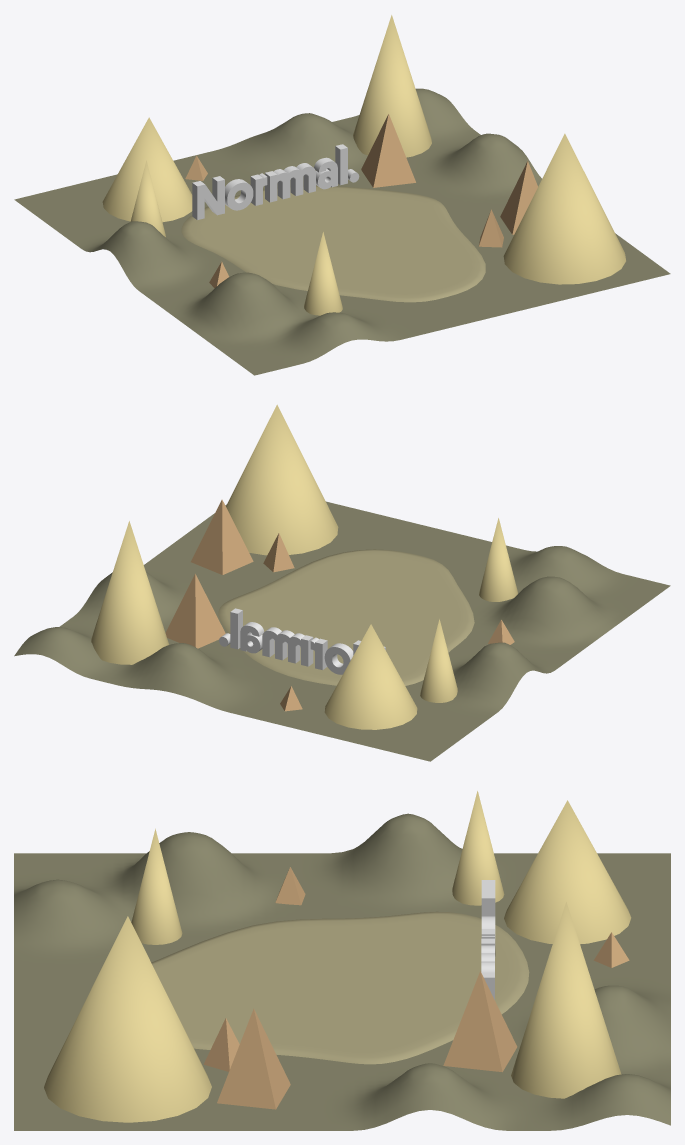
The model's file is Keyboard Land.fbx.
The picture shows the model from 3 angles, top to bottom: view 1: azimuth 30°, elevation 25°; view 2: azimuth 150°, elevation 25°; view 3: azimuth 270°, elevation 25°; orthographic projection. The views are drawn at different scales.
Visible parts, largest first — view 1: Land, Grass, Cone4, Cone5, NormalLogo, Cone2, Pyramid5, Cone1, Pyramid2, Cone3, Pyramid4; view 2: Land, Grass, Cone4, Cone5, Cone2, NormalLogo, Pyramid2, Pyramid5, Cone1, Cone3, Pyramid4; view 3: Land, Grass, Cone4, Cone5, Cone2, Pyramid5, Pyramid2, Cone1, Cone3, NormalLogo, Pyramid4, Pyramid3 (+1 smaller).
Part boxes in pixels (x1,y1,x2,y2): Land: (14, 88, 670, 375); Grass: (181, 185, 485, 302); Cone4: (503, 133, 625, 284); Cone5: (353, 15, 431, 157); NormalLogo: (192, 144, 359, 219); Cone2: (102, 117, 192, 222); Pyramid5: (361, 114, 415, 187); Cone1: (304, 232, 342, 315); Pyramid2: (500, 161, 537, 234); Cone3: (130, 160, 165, 237); Pyramid4: (478, 209, 503, 247); Land: (14, 501, 670, 761); Grass: (218, 549, 474, 685); Cone4: (226, 404, 338, 555); Cone5: (91, 521, 169, 664); Cone2: (324, 624, 417, 729); NormalLogo: (219, 608, 385, 674); Pyramid2: (191, 499, 253, 574); Pyramid5: (165, 573, 225, 648); Cone1: (479, 518, 517, 601); Cone3: (420, 619, 457, 702); Pyramid4: (263, 533, 294, 572); Land: (14, 813, 670, 1130); Grass: (151, 911, 529, 1064); Cone4: (44, 916, 211, 1122); Cone5: (511, 902, 621, 1098); Cone2: (504, 800, 631, 944); Pyramid5: (443, 971, 517, 1072); Pyramid2: (217, 1008, 290, 1109); Cone1: (131, 828, 182, 944); Cone3: (452, 791, 504, 905); NormalLogo: (481, 880, 495, 999); Pyramid4: (203, 1018, 239, 1071); Pyramid3: (593, 932, 629, 967).
Size of the model in its own units: 7.88 by 2.42 by 7.88.
